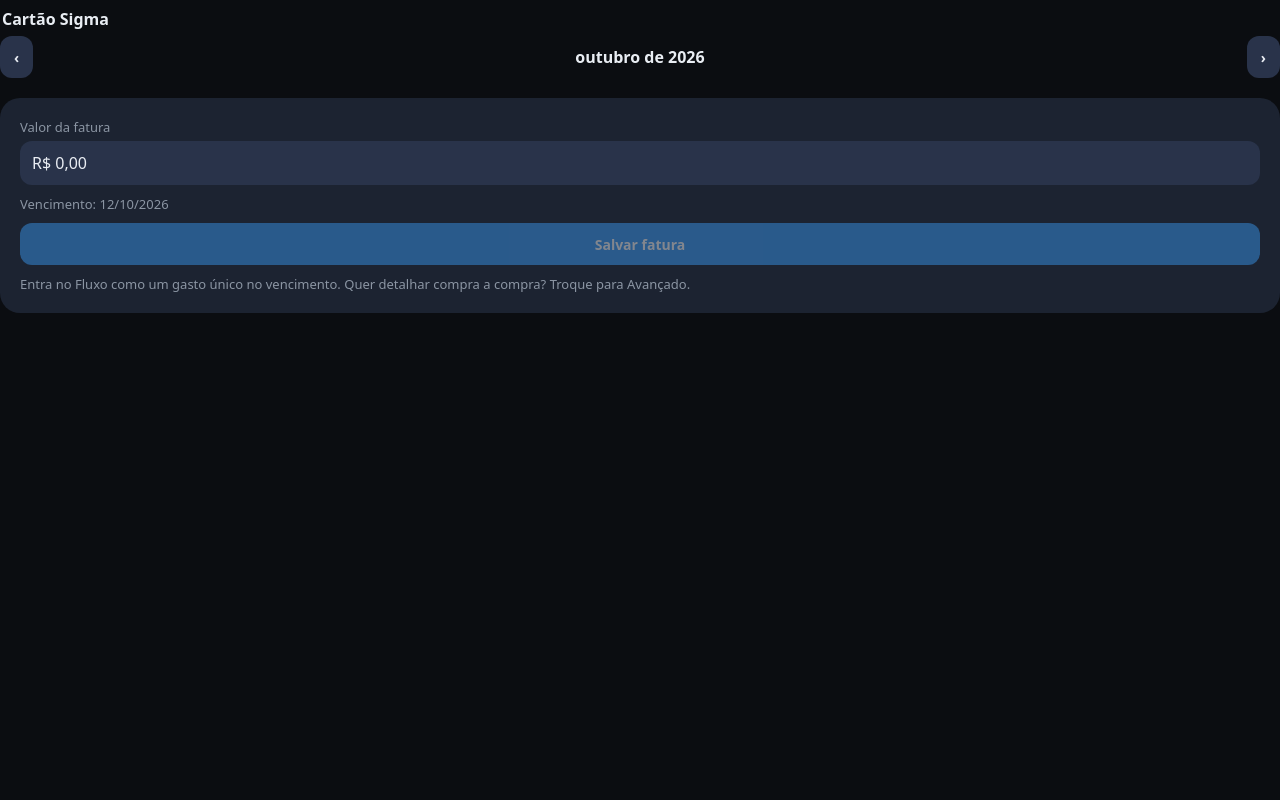
Paguei outro valor abre a folha de pagamento da fatura
The width and height of the screenshot is (1280, 800).
Type "187000" into the field labelled "Valor da fatura" at (640,163), box [20,141,1260,185]
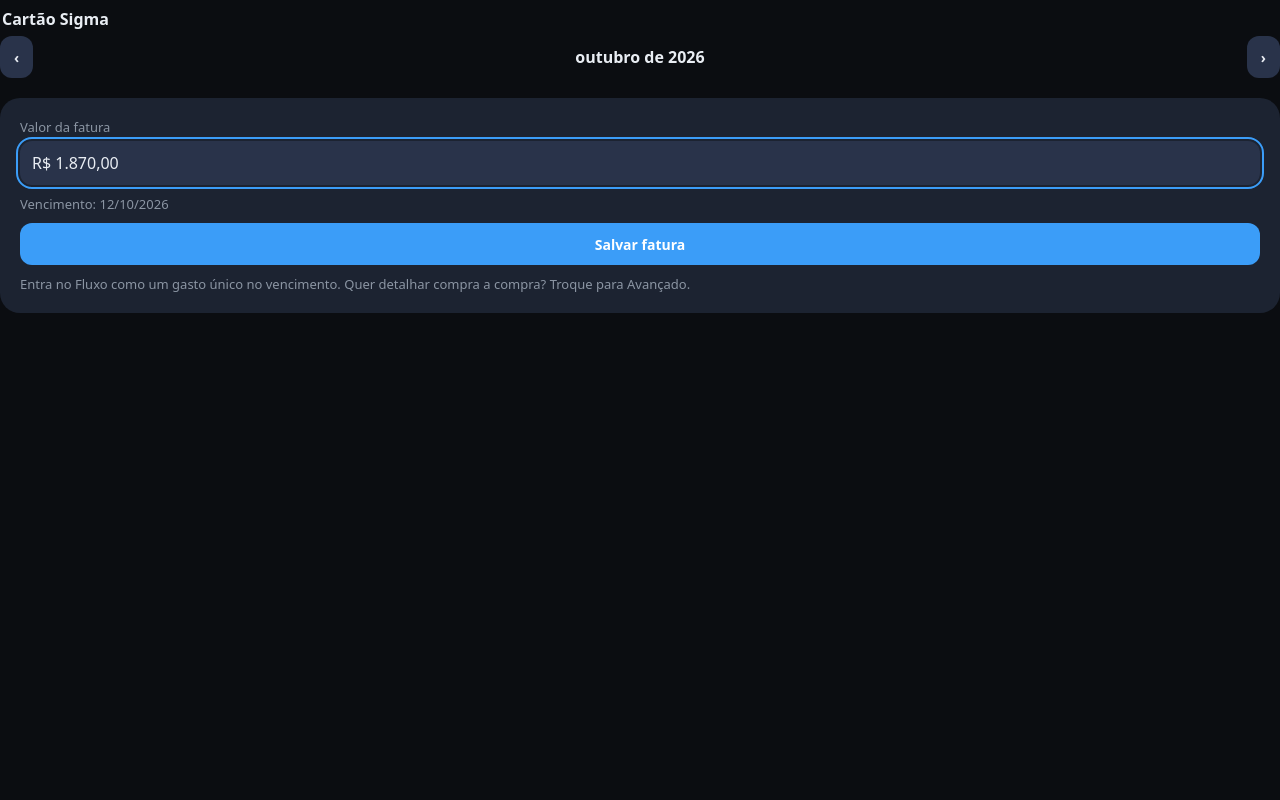
Click the button "Salvar fatura" at (640,244), box [20,223,1260,265]
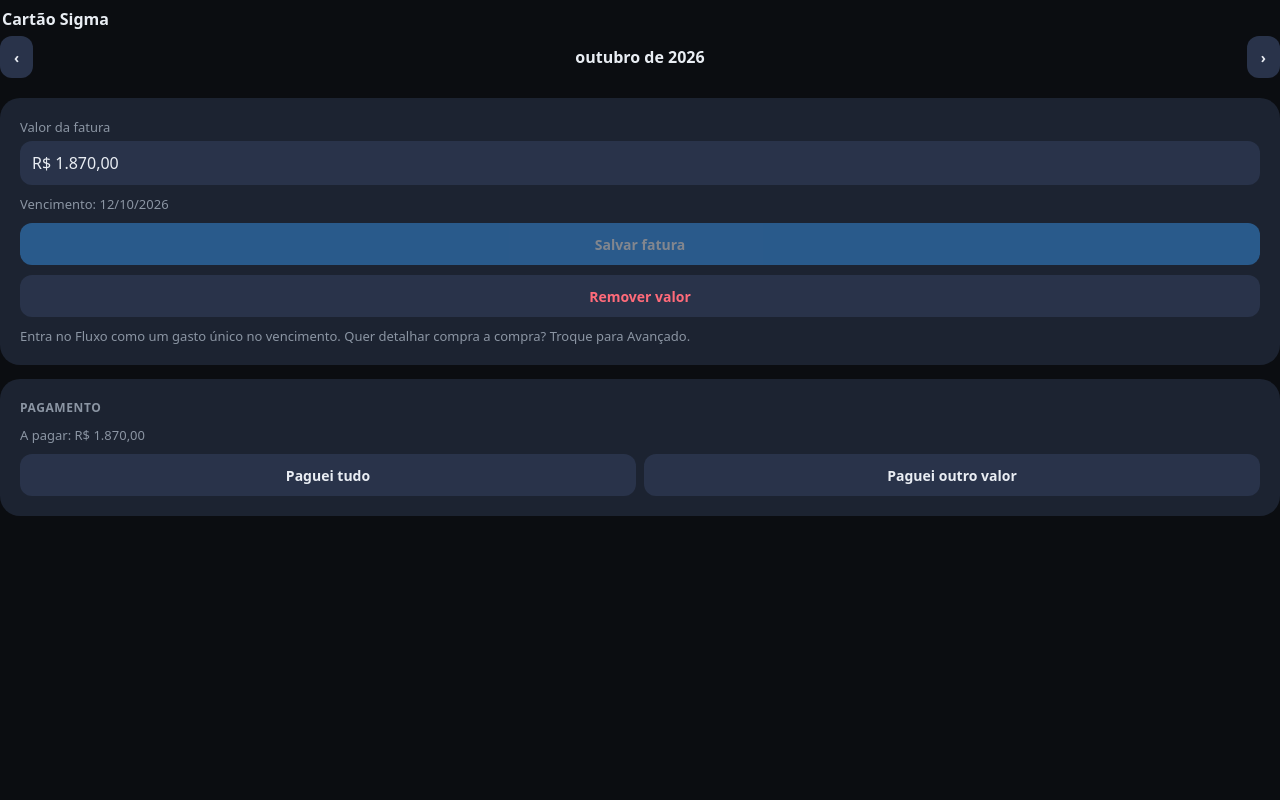
Click the button "Paguei outro valor" at (952,475), box [644,454,1260,496]
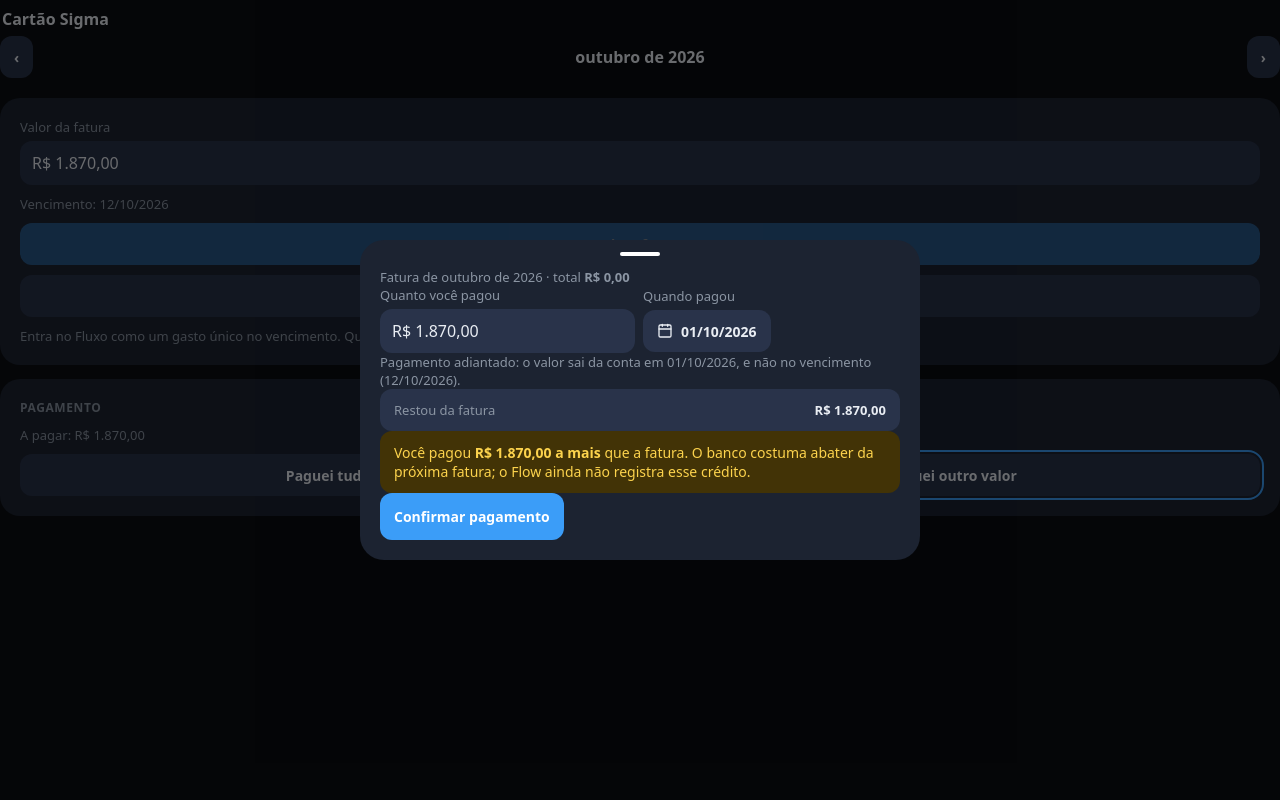
expect the dialog named "Pagamento da fatura" is shown: met, box [360,240,920,560]
